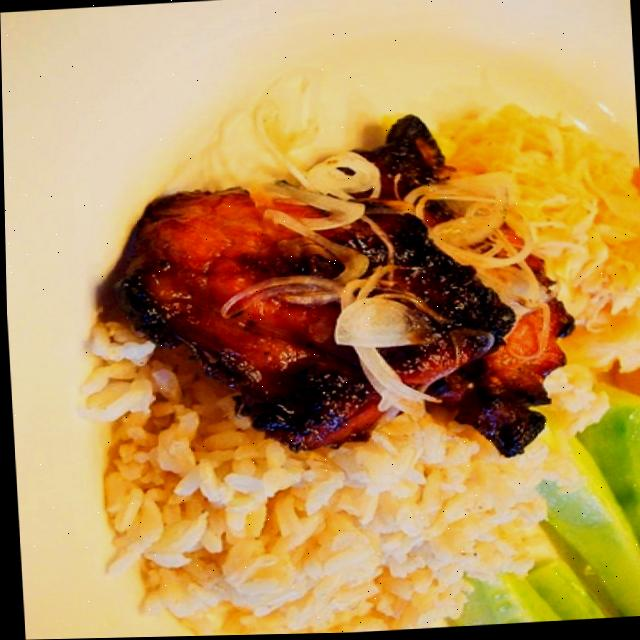牛肉菜式: (89, 71, 640, 625)
